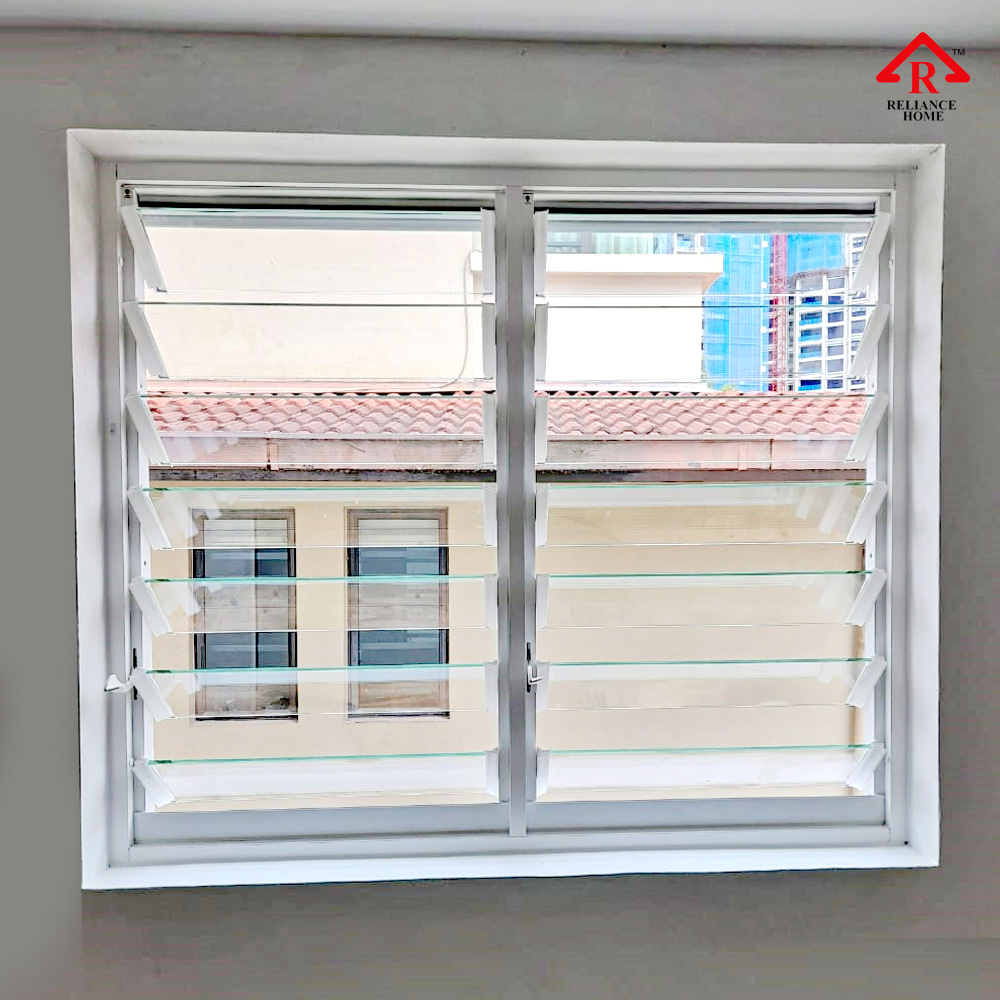Window: (63, 127, 936, 866), (190, 510, 299, 731), (347, 509, 454, 717)
